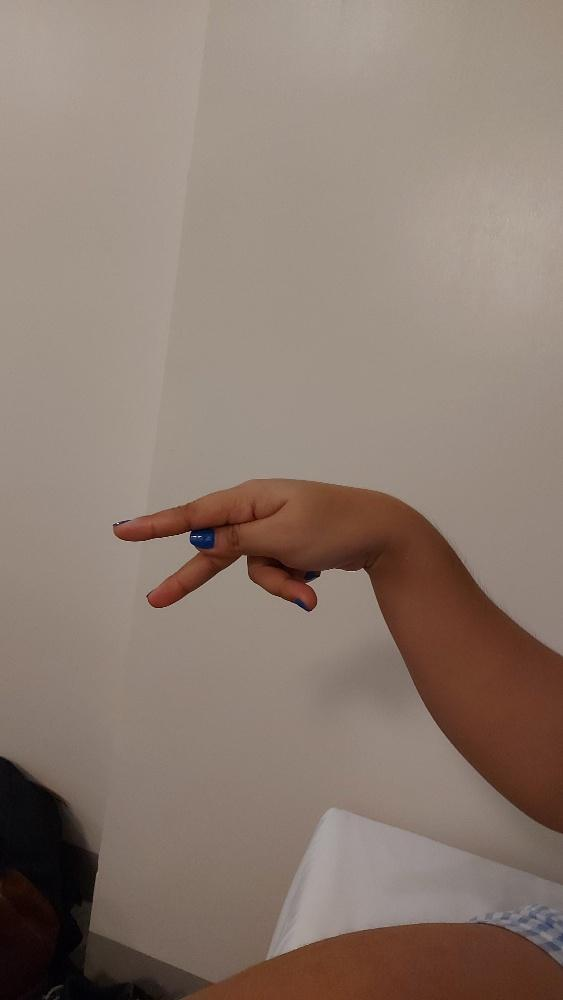p: (111, 475, 388, 612)
